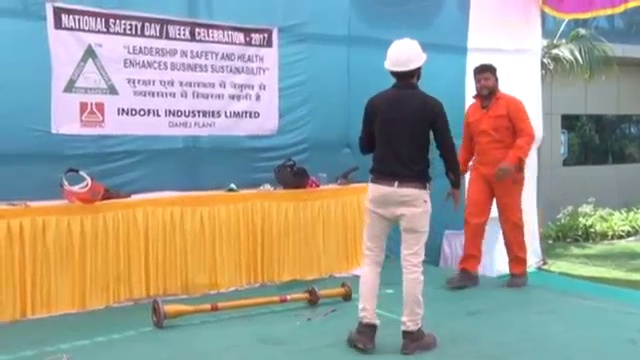helmet: (384, 37, 428, 73)
helmet_off: (472, 64, 499, 98)
helmet_on: (384, 36, 429, 88)
person: (352, 37, 463, 355), (454, 63, 539, 288)
